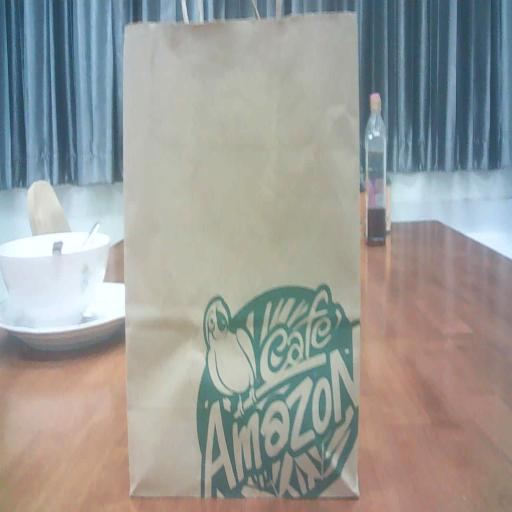bag: (123, 7, 362, 504)
